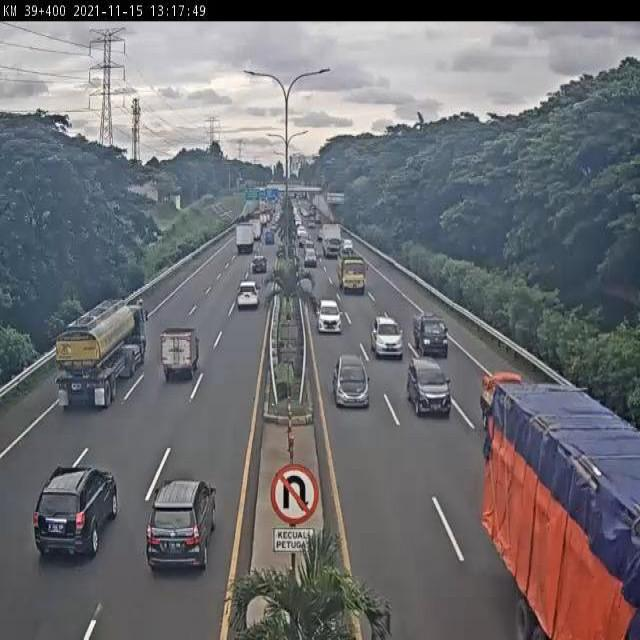car: (34, 466, 117, 558), (147, 474, 216, 570), (407, 357, 453, 419), (331, 353, 372, 408), (370, 315, 405, 360), (316, 299, 343, 337), (235, 279, 260, 308), (252, 255, 269, 273)
truck-l-: (485, 373, 640, 640)
truck-m-: (336, 252, 368, 296)
truck-s-: (162, 325, 200, 380), (412, 309, 448, 359)
truck-xl-: (56, 299, 147, 408)
